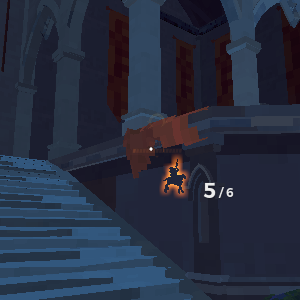model: (165, 162, 189, 198)
